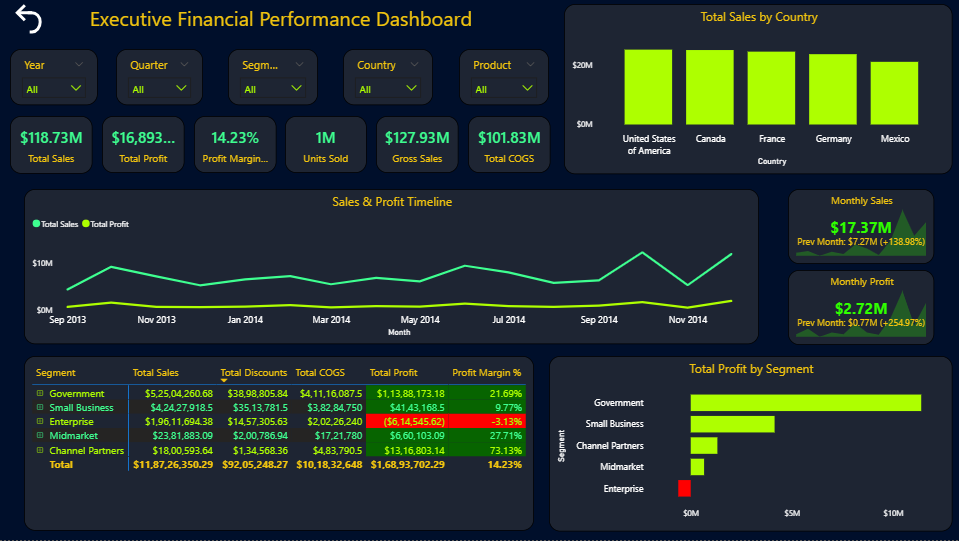

The dashboard page shown, as its layout file describes it:
{"tool":"powerbi","page":{"name":"Page 1","canvas":[1280,720],"ordinal":0},"visuals":[{"type":"card","fields":{"Values":["Measure Table.Total Sales"]},"box":[15,154.9,110,76.7],"z":0},{"type":"card","fields":{"Values":["Measure Table.Total GrossSales"]},"box":[502.7,155,110.2,76.4],"z":1000},{"type":"card","fields":{"Values":["Measure Table.Total COGS"]},"box":[625,155,110.2,76.4],"z":2000},{"type":"card","fields":{"Values":["Measure Table.Total Profit Display"]},"box":[137.1,155,110.2,76.4],"z":3000},{"type":"card","fields":{"Values":["Measure Table.Profit Margin %"]},"box":[259.5,155,110.2,76.4],"z":4000},{"type":"card","fields":{"Values":["Measure Table.Units Sold"]},"box":[381.8,155,108.7,76.4],"z":5000},{"type":"lineChart","title":"Sales & Profit Timeline","fields":{"Y":["Measure Table.Total Sales","Measure Table.Total Profit"],"Category":["DimDate.Date.Variation.Date Hierarchy.Year","DimDate.Date.Variation.Date Hierarchy.Quarter","DimDate.Date.Variation.Date Hierarchy.Month","DimDate.Date.Variation.Date Hierarchy.Day"]},"box":[33.3,251.7,980,206.7],"z":6000},{"type":"clusteredBarChart","fields":{"Category":["FactSales.Segment"],"Y":["Measure Table.Total Profit"]},"box":[733.2,474.6,537.8,233.6],"z":7000},{"type":"columnChart","fields":{"Category":["FactSales.Country"],"Y":["Measure Table.Total Sales"]},"box":[753.3,5,518.3,226.7],"z":8000},{"type":"pivotTable","fields":{"Rows":["FactSales.Segment","FactSales.Country"],"Values":["Measure Table.Total Sales","Measure Table.Total Discounts","Measure Table.Total COGS","Measure Table.Total Profit","Measure Table.Profit Margin %"]},"box":[33.3,475,680,233.3],"z":10000},{"type":"textbox","box":[116.1,0,551,57.3],"z":11000},{"type":"slicer","fields":{"Values":["DimDate.Date.Variation.Date Hierarchy.Year"]},"box":[15,65,116.7,75],"z":12000},{"type":"slicer","fields":{"Values":["DimDate.Date.Variation.Date Hierarchy.Quarter"]},"box":[156.3,65.6,115.7,75],"z":13000},{"type":"slicer","fields":{"Values":["FactSales.Segment"]},"box":[305.6,65.6,120,75],"z":14000},{"type":"slicer","fields":{"Values":["CountryLookup.Country"]},"box":[459.2,65.6,120,75],"z":15000},{"type":"slicer","fields":{"Values":["FactSales. Product "]},"box":[612.7,65.6,120,75],"z":16000},{"type":"actionButton","box":[14.7,0,50,50],"z":18000},{"type":"kpi","title":"Monthly Sales","fields":{"Indicator":["Measure Table.Total Sales"],"TrendLine":["DimDate.Date.Variation.Date Hierarchy.Month"],"Goal":["Measure Table.Previous Month Sales"]},"box":[1051.7,251.7,195,100],"z":18001},{"type":"kpi","title":"Monthly Profit","fields":{"TrendLine":["DimDate.Date.Variation.Date Hierarchy.Month"],"Indicator":["Measure Table.Total Profit"],"Goal":["Measure Table.Previous Month Profit"]},"box":[1051.7,360,195,100],"z":18002}]}

Visuals, with their boxes in screenshot pixels (x1, y1, x2, y2), scaled from the page's 1280x720 canvas onto the 959x541 screenshot:
card - Measure Table.Total Sales: Rect(11, 116, 94, 174)
card - Measure Table.Total GrossSales: Rect(377, 116, 459, 174)
card - Measure Table.Total COGS: Rect(468, 116, 551, 174)
card - Measure Table.Total Profit Display: Rect(103, 116, 185, 174)
card - Measure Table.Profit Margin %: Rect(194, 116, 277, 174)
card - Measure Table.Units Sold: Rect(286, 116, 367, 174)
"Sales & Profit Timeline" lineChart: Rect(25, 189, 759, 344)
clusteredBarChart - FactSales.Segment x Measure Table.Total Profit: Rect(549, 357, 952, 532)
columnChart - FactSales.Country x Measure Table.Total Sales: Rect(564, 4, 953, 174)
pivotTable - FactSales.Segment x FactSales.Country: Rect(25, 357, 534, 532)
textbox: Rect(87, 0, 500, 43)
slicer - DimDate.Date.Variation.Date Hierarchy.Year: Rect(11, 49, 99, 105)
slicer - DimDate.Date.Variation.Date Hierarchy.Quarter: Rect(117, 49, 204, 106)
slicer - FactSales.Segment: Rect(229, 49, 319, 106)
slicer - CountryLookup.Country: Rect(344, 49, 434, 106)
slicer - FactSales. Product : Rect(459, 49, 549, 106)
actionButton: Rect(11, 0, 48, 38)
"Monthly Sales" kpi: Rect(788, 189, 934, 264)
"Monthly Profit" kpi: Rect(788, 270, 934, 346)
